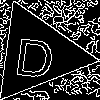D: (13, 28, 58, 79)
